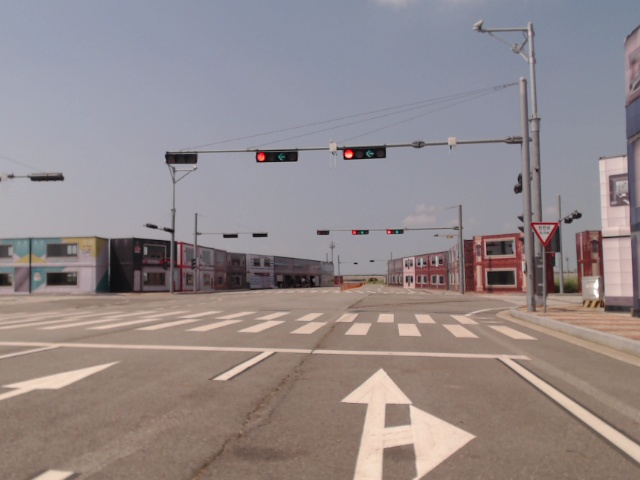left_green_4: (256, 150, 297, 162), (343, 148, 386, 159), (387, 229, 404, 235), (353, 230, 369, 235)
